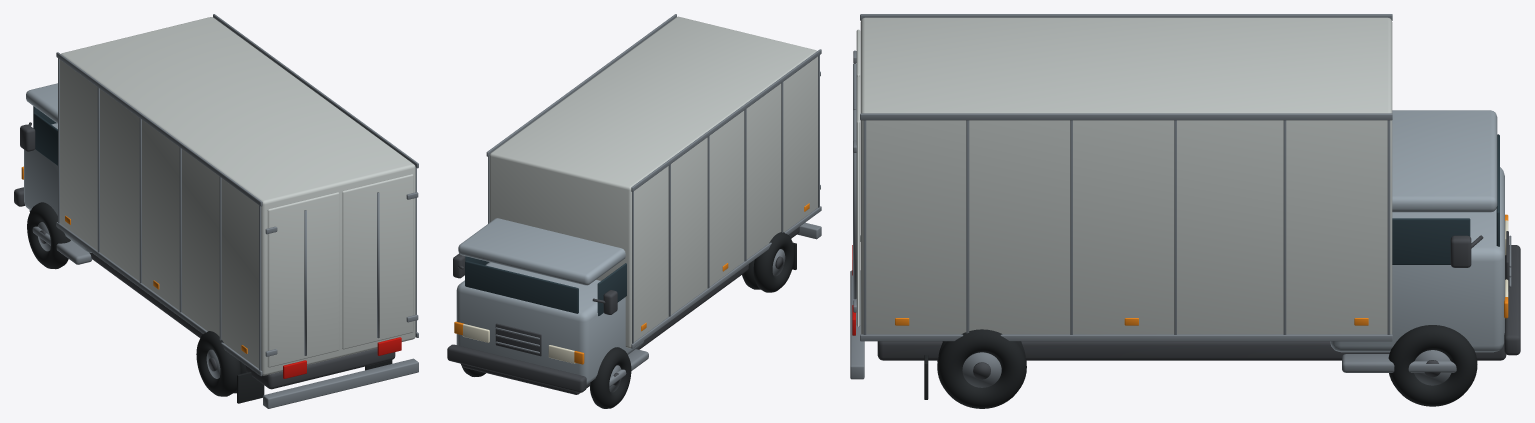
Rendered from truck.glb.
3 views of the same model, side by side, from view 1: azimuth 30°, elevation 25°; view 2: azimuth 150°, elevation 25°; view 3: azimuth 270°, elevation 25° (orthographic). The views are drawn at different scales.
Parts seen in each view (by area): view 1: Cargo enamel, Brushed steel, Rubber, Engine, Paint, Window glass, Tail lamp; view 2: Cargo enamel, Paint, Brushed steel, Engine, Window glass, Rubber, Headlight, Indicator; view 3: Cargo enamel, Paint, Brushed steel, Engine, Rubber, Window glass.
Boxes of the visible parts, box(x1,y1,x2,y2) form: Cargo enamel: box(60, 17, 415, 375); Brushed steel: box(32, 14, 418, 408); Rubber: box(27, 202, 392, 403); Engine: box(14, 122, 395, 389); Paint: box(24, 83, 91, 252); Window glass: box(33, 106, 57, 165); Tail lamp: box(283, 337, 401, 378); Cargo enamel: box(489, 16, 817, 348); Paint: box(456, 218, 643, 384); Brushed steel: box(486, 14, 821, 392); Engine: box(447, 227, 799, 394); Window glass: box(465, 256, 626, 315); Rubber: box(461, 232, 796, 408); Headlight: box(462, 324, 575, 363); Indicator: box(454, 203, 809, 364); Cargo enamel: box(856, 17, 1392, 334); Paint: box(1330, 110, 1504, 352); Brushed steel: box(850, 14, 1511, 387); Engine: box(877, 231, 1520, 379); Rubber: box(924, 325, 1477, 408); Window glass: box(1392, 134, 1499, 264).
Size of the model in its own units: 2.37 by 2.99 by 6.13.
